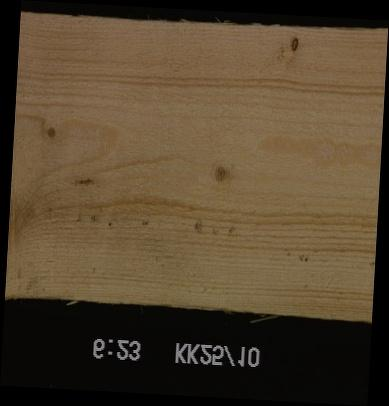dry_knot: (288, 33, 300, 55)
sound_knot: (209, 162, 232, 186), (43, 123, 59, 141)
